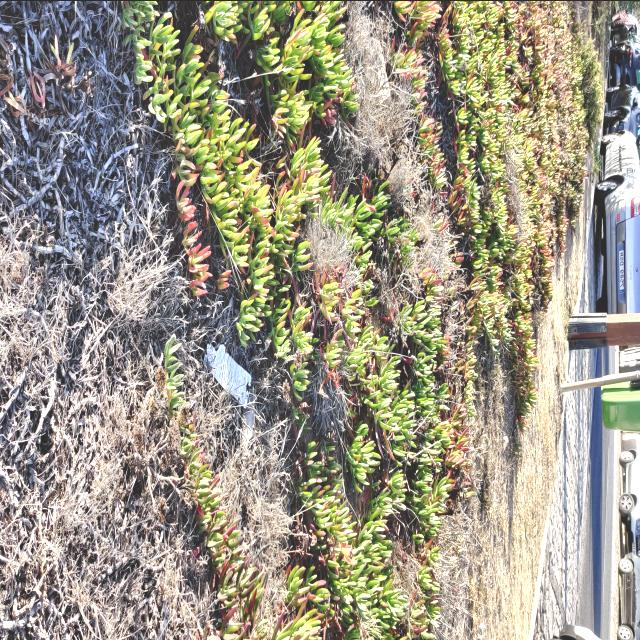Normal paper: (202, 341, 251, 407)
